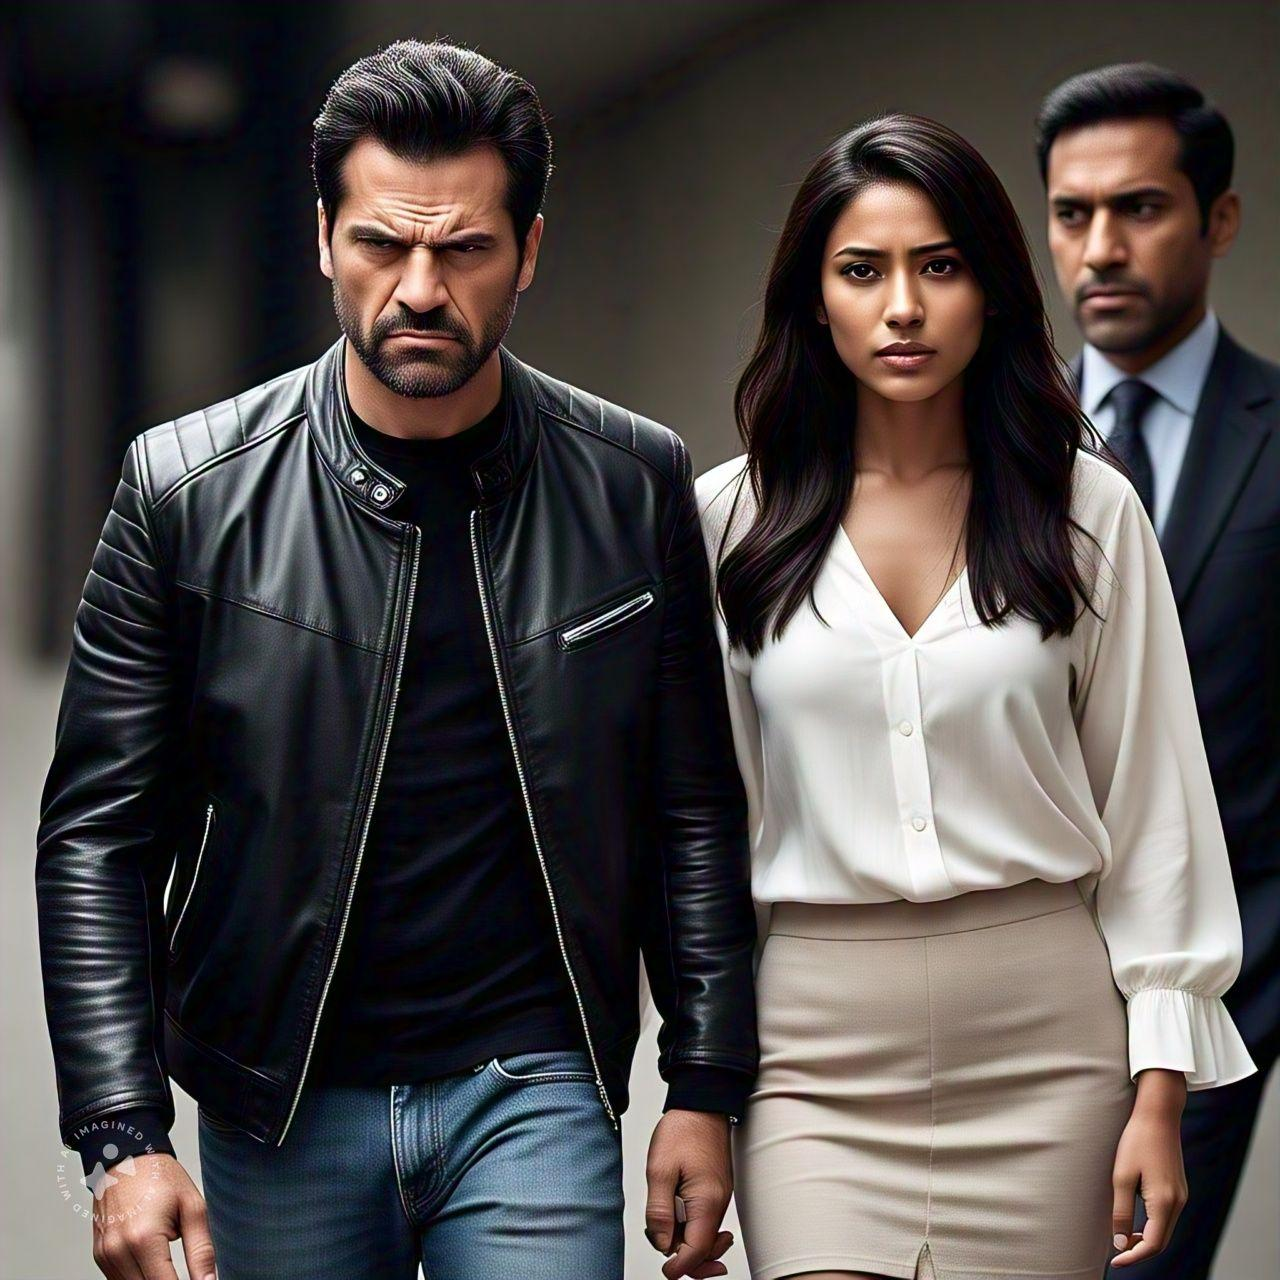normal: (1046, 81, 1244, 354), (810, 138, 1009, 407)
raiva: (331, 70, 543, 402)
